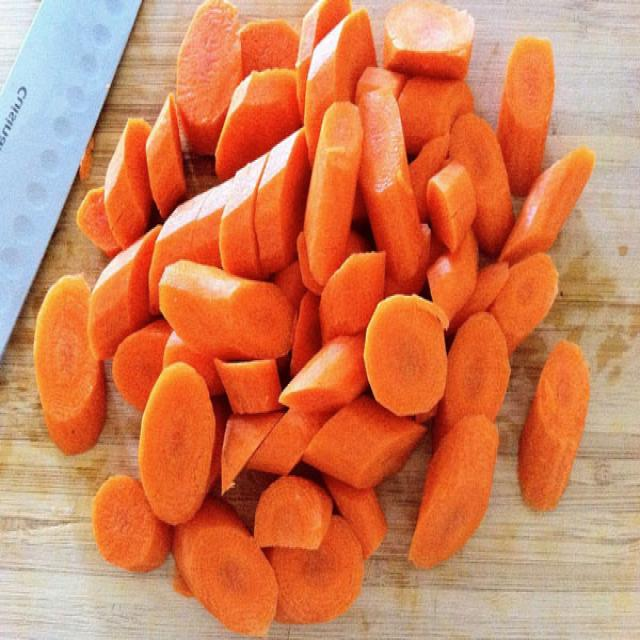ca rot: (35, 0, 593, 634), (518, 342, 588, 509)
